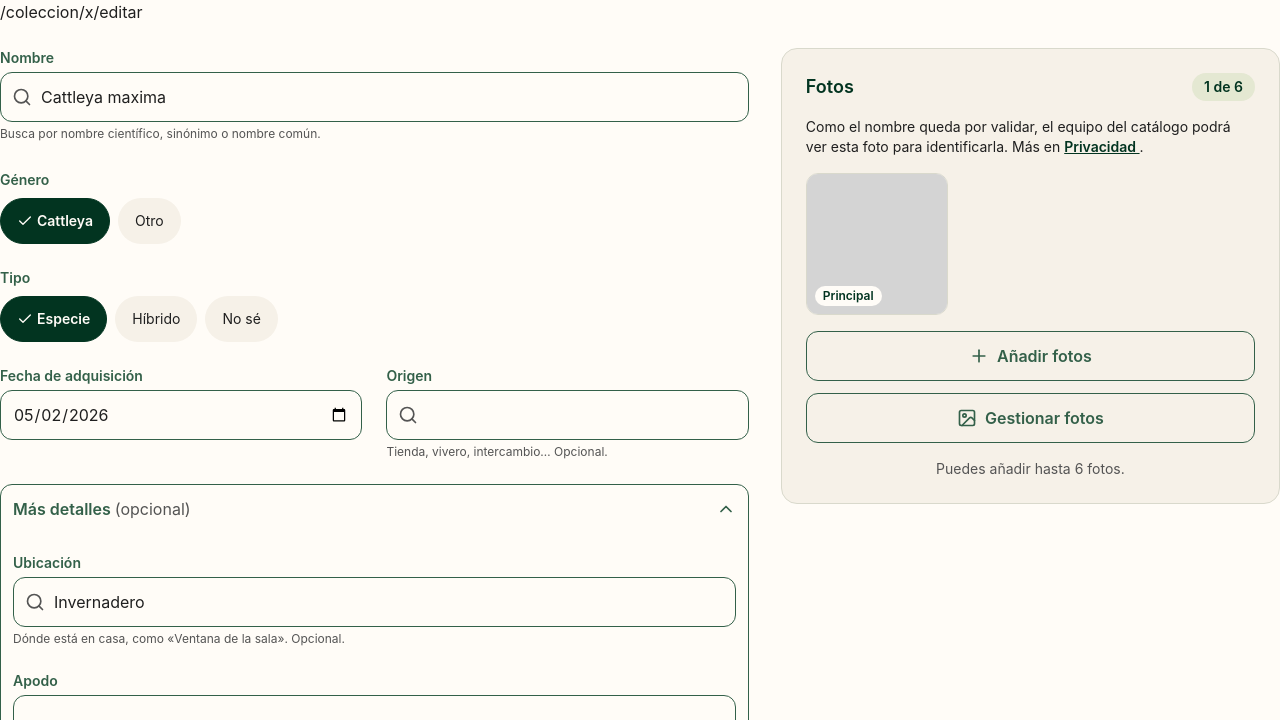
EditPlantForm › con cambios, Cancelar pregunta antes de salir
Later steps or results of the test are not shown.
Step 1. Type " alto" into the dropdown labelled "Ubicación" → (374, 602), box [13,577,736,627]
(page scrolled)
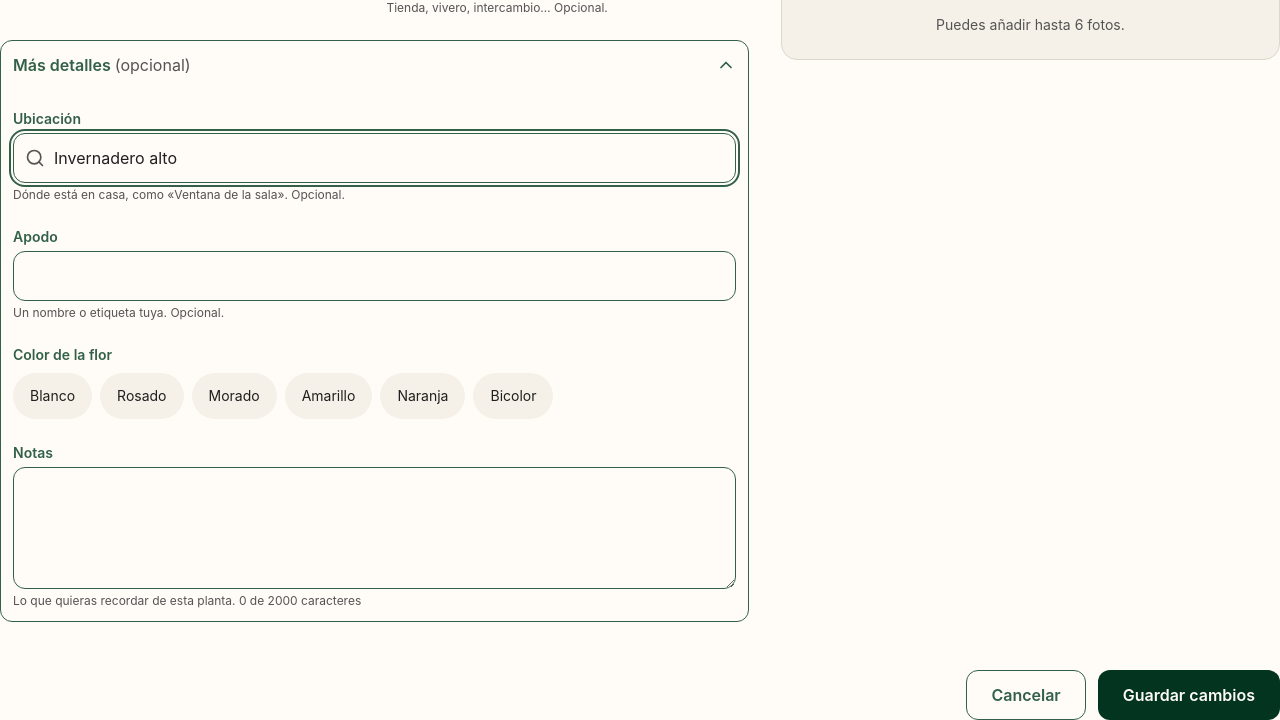
Step 2. Click the button "Cancelar" → (1026, 695), box [966,670,1086,719]
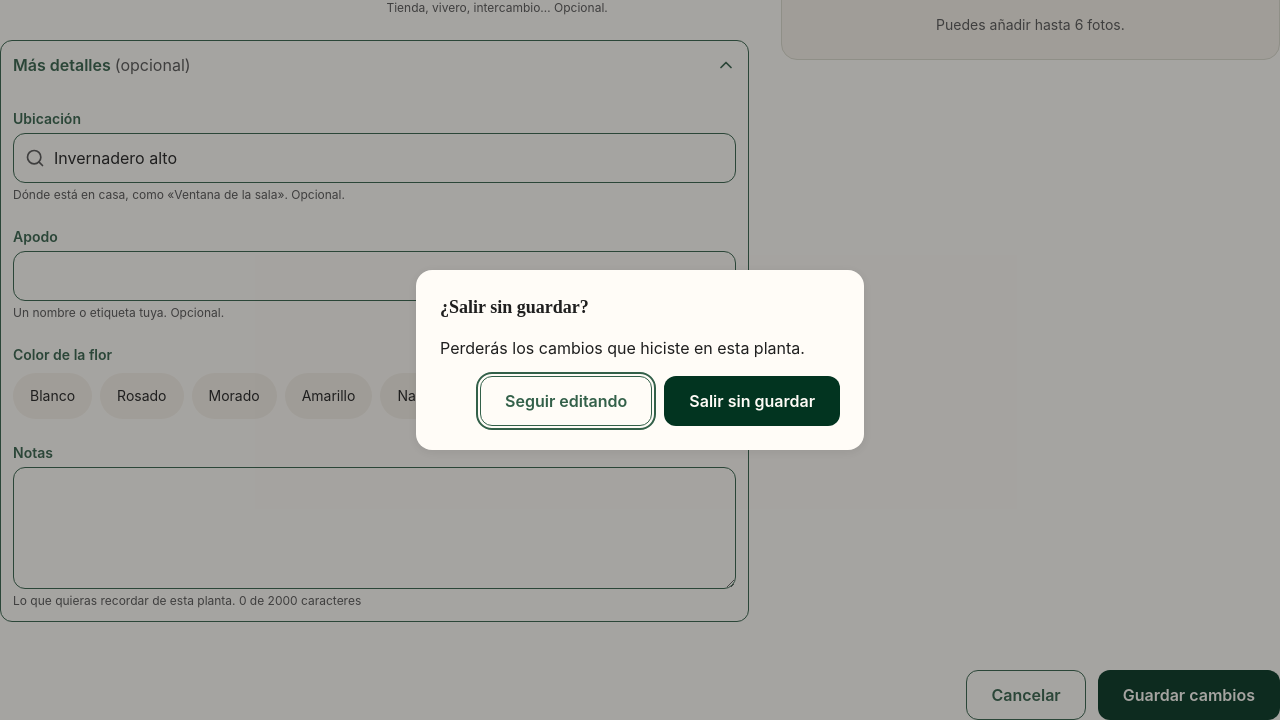
Step 3. Press Escape
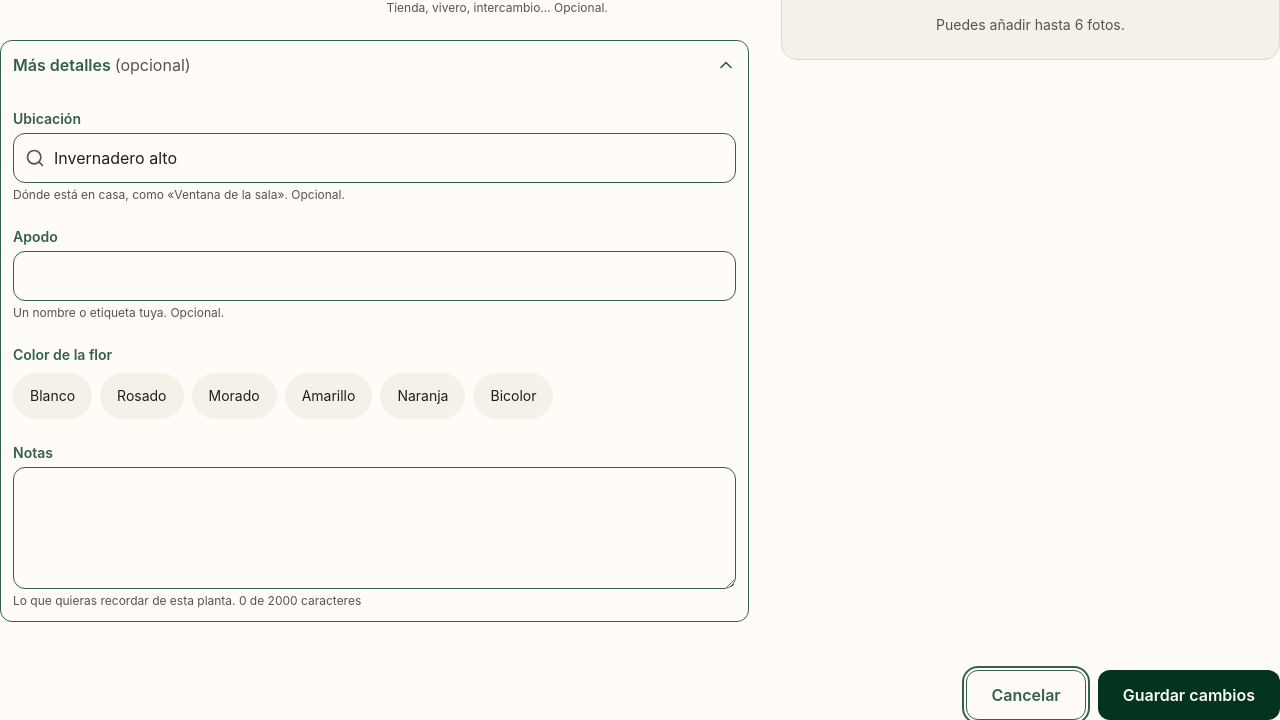
Expected: the dialog is gone
